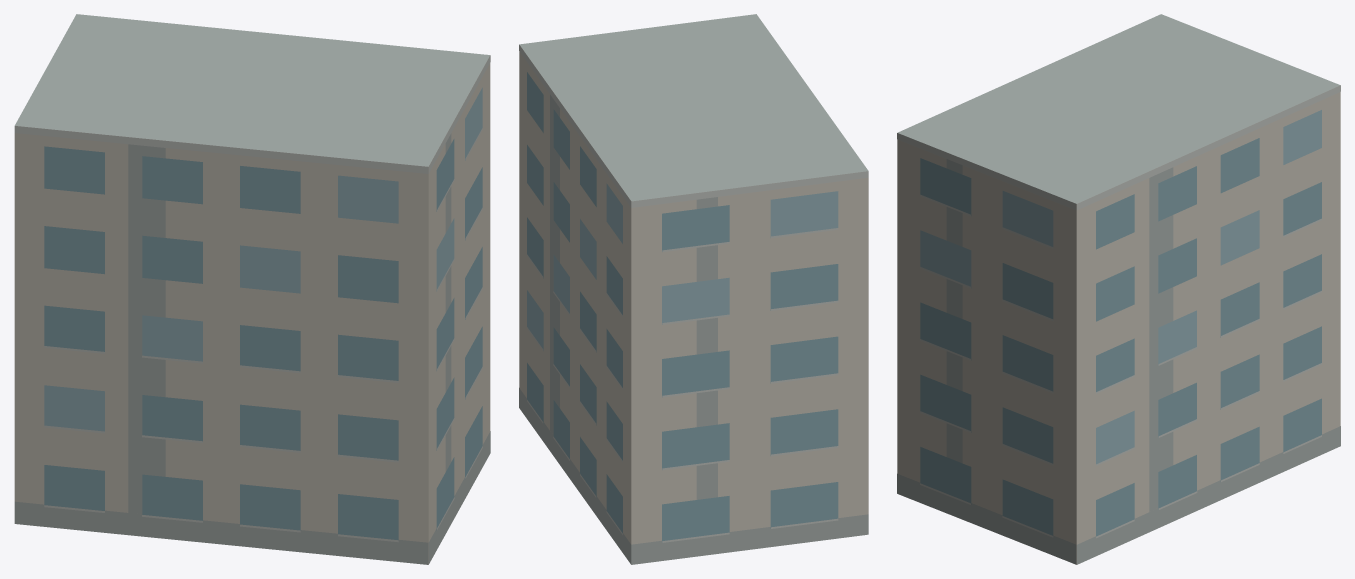
Rendered from residential-1b1b4787-09be-4280-be83-3f34a24cf66d.glb.
The picture shows the model from 3 angles, left to right: view 1: azimuth 30°, elevation 25°; view 2: azimuth 150°, elevation 25°; view 3: azimuth 270°, elevation 25°; orthographic projection. The views are drawn at different scales.
Visible parts, largest first — view 1: residential-1b1b4787-09be-4280-be83-3f34a24cf66d.tmp; view 2: residential-1b1b4787-09be-4280-be83-3f34a24cf66d.tmp; view 3: residential-1b1b4787-09be-4280-be83-3f34a24cf66d.tmp.
Boxes of the visible parts, x1,y1,x2,y2 form: residential-1b1b4787-09be-4280-be83-3f34a24cf66d.tmp: [14, 14, 490, 564]; residential-1b1b4787-09be-4280-be83-3f34a24cf66d.tmp: [519, 14, 868, 564]; residential-1b1b4787-09be-4280-be83-3f34a24cf66d.tmp: [897, 14, 1340, 564].
Size of the model in its own units: 15.19 by 13.45 by 14.99.
